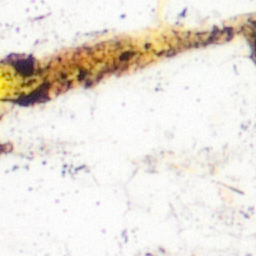cement_matrix: (11, 58, 51, 103), (75, 68, 92, 82), (116, 51, 131, 65), (251, 25, 255, 54), (58, 73, 67, 82)
cracks: (0, 15, 255, 107), (10, 57, 52, 104), (74, 67, 93, 83), (115, 50, 132, 66), (57, 72, 68, 83), (0, 142, 8, 154)
gravel_crushed_stones: (0, 36, 255, 255), (0, 0, 255, 58)
